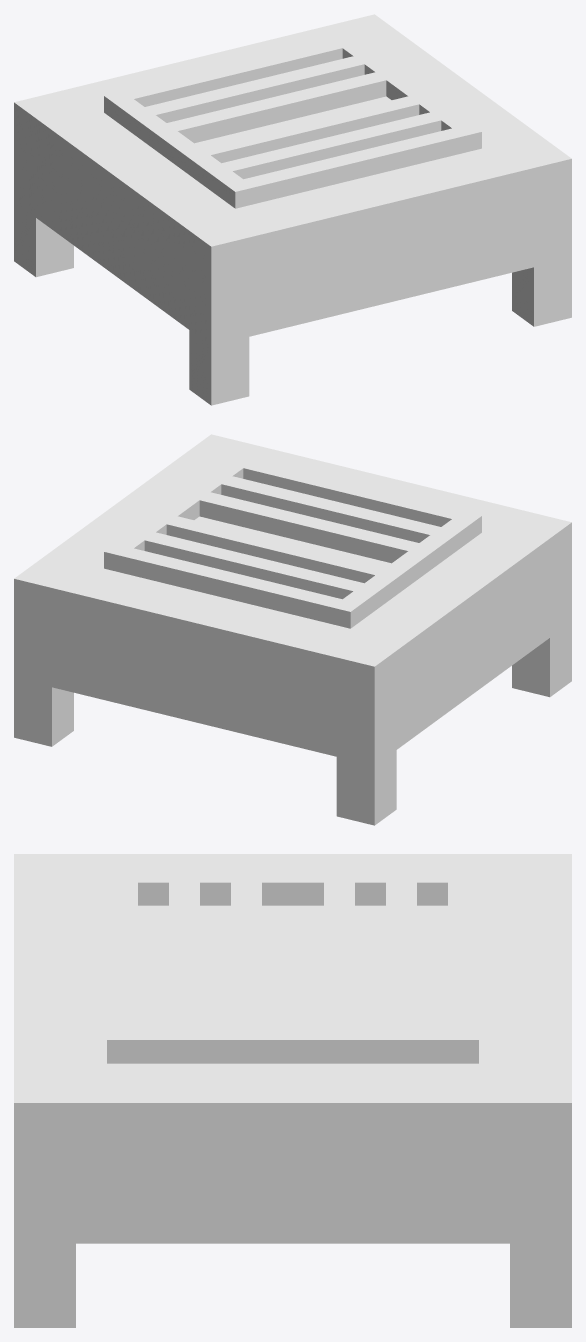
File: vente.fbx
3 renders of one model, top to bottom at view 1: azimuth 30°, elevation 25°; view 2: azimuth 150°, elevation 25°; view 3: azimuth 270°, elevation 25°, orthographic. The views are drawn at different scales.
Visible parts, largest first — view 1: vente; view 2: vente; view 3: vente.
Boxes of the visible parts, x1=… form: vente: x1=14, y1=14, x2=571, y2=405; vente: x1=14, y1=434, x2=571, y2=825; vente: x1=14, y1=854, x2=571, y2=1327.
Bounding box in the file's own units: 19 × 8.85 × 18.
